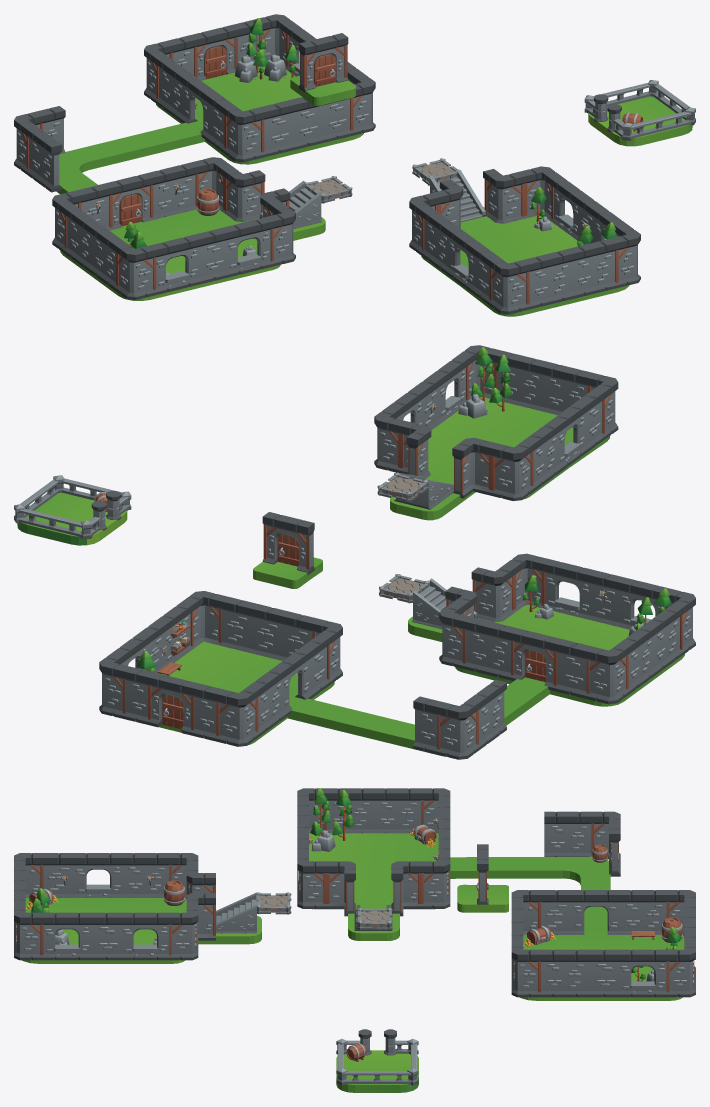
The model's file is Level 4 Polished.fbx.
3 views of the same model, one above another, from view 1: azimuth 30°, elevation 25°; view 2: azimuth 150°, elevation 25°; view 3: azimuth 270°, elevation 25° (orthographic). The views are drawn at different scales.
Parts seen in each view (by area): view 1: Cube.078, Cube.079, Cube.080, wall.063, wall.062, wall_corner_scaffold.064, wall_corner_scaffold.075, wall_corner_scaffold.069, wall.047, Cube.081, wall_corner_scaffold.071, wall_archedwindow_open.008 (+48 smaller); view 2: Cube.078, Cube.079, Cube.080, wall.047, Cube.081, wall_corner_scaffold.063, wall_corner_scaffold.068, wall_corner_scaffold.074, wall_corner_scaffold.077, wall_corner_scaffold.065, wall_corner_scaffold.072, wall_archedwindow_open.008 (+44 smaller); view 3: Cube.078, Cube.079, Cube.080, wall_shelves.008, wall.065, wall.053, Cube.081, wall.061, wall_archedwindow_open.012, wall_archedwindow_open.016, wall_archedwindow_open.013, wall.064 (+31 smaller).
Boxes of the visible parts, <box> form: Cube.078: <box>56,122,325,300</box>; Cube.079: <box>421,207,629,316</box>; Cube.080: <box>156,66,363,164</box>; wall.063: <box>568,238,616,298</box>; wall.062: <box>524,249,573,308</box>; wall_corner_scaffold.064: <box>114,242,157,299</box>; wall_corner_scaffold.075: <box>222,104,265,162</box>; wall_corner_scaffold.069: <box>488,256,530,314</box>; wall.047: <box>148,162,197,219</box>; Cube.081: <box>588,96,692,146</box>; wall_corner_scaffold.071: <box>483,169,525,223</box>; wall_archedwindow_open.008: <box>223,217,271,277</box>; Cube.078: <box>287,605,684,756</box>; Cube.079: <box>390,397,609,520</box>; Cube.080: <box>159,641,334,744</box>; wall.047: <box>464,617,515,680</box>; Cube.081: <box>17,492,127,545</box>; wall_corner_scaffold.063: <box>585,643,630,704</box>; wall_corner_scaffold.068: <box>490,440,535,500</box>; wall_corner_scaffold.074: <box>215,686,259,746</box>; wall_corner_scaffold.077: <box>436,699,480,759</box>; wall_corner_scaffold.065: <box>471,564,516,622</box>; wall_corner_scaffold.072: <box>452,437,496,498</box>; wall_archedwindow_open.008: <box>543,559,594,619</box>; Cube.078: <box>309,833,610,940</box>; Cube.079: <box>22,897,261,963</box>; Cube.080: <box>520,931,684,1000</box>; wall_shelves.008: <box>541,949,587,997</box>; wall.065: <box>544,811,591,856</box>; wall.053: <box>373,788,420,833</box>; Cube.081: <box>336,1050,418,1092</box>; wall.061: <box>121,853,168,897</box>; wall_archedwindow_open.012: <box>43,912,90,960</box>; wall_archedwindow_open.016: <box>619,949,666,997</box>; wall_archedwindow_open.013: <box>121,912,168,960</box>; wall.064: <box>619,890,666,934</box>.
Bounding box in the file's own units: 10945 × 2187 × 11582.
Materials: 24 (24 with a texture image).
